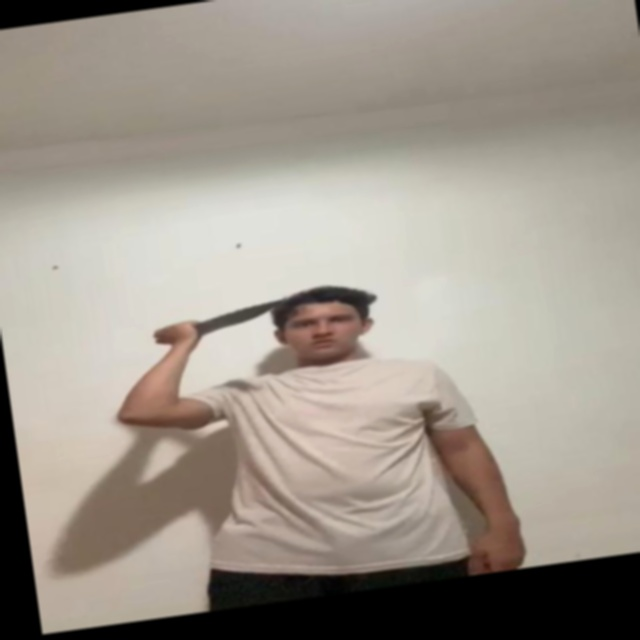Sharp-Object: (193, 300, 281, 335)
